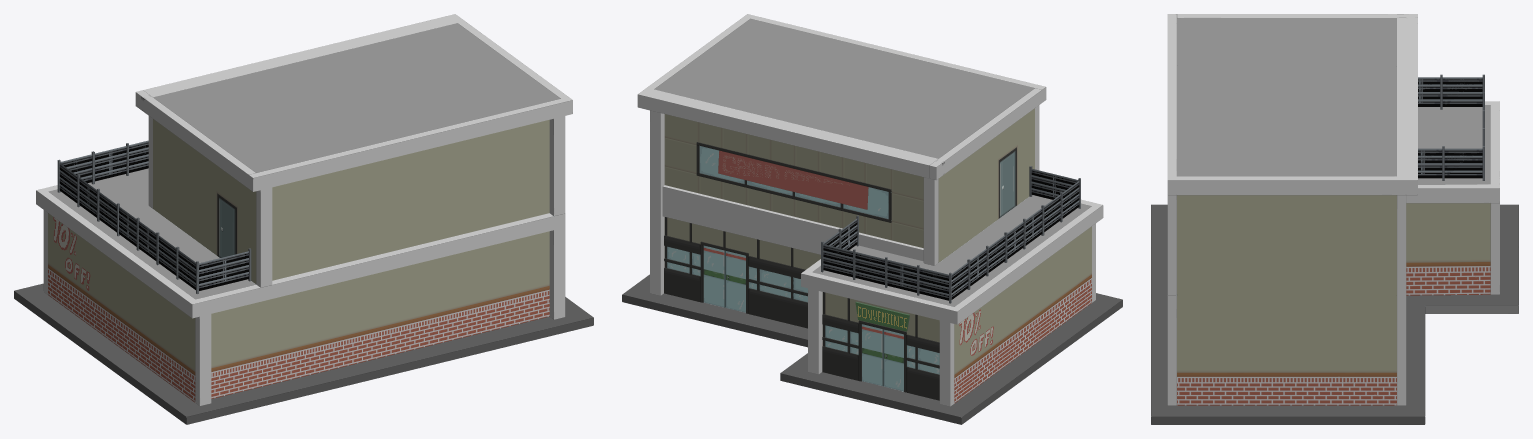
The model's file is ConvenienceStore.fbx.
3 views of the same model, side by side, from view 1: azimuth 30°, elevation 25°; view 2: azimuth 150°, elevation 25°; view 3: azimuth 270°, elevation 25° (orthographic). The views are drawn at different scales.
Visible parts, largest first — view 1: ConvenienceStore, FrameLarge, FrameSmall, Fence; view 2: ConvenienceStore, FrameLarge, FrontDetails, FrameSmall, Fence, OuterDetail, WindowBanner, FrontSign; view 3: ConvenienceStore, FrameLarge, FrameSmall, Fence.
Part boxes in pixels (<box>): ConvenienceStore: <box>14,23,593,424</box>; FrameLarge: <box>135,14,572,287</box>; FrameSmall: <box>36,185,565,405</box>; Fence: <box>57,140,251,293</box>; ConvenienceStore: <box>622,19,1122,424</box>; FrameLarge: <box>637,14,1046,295</box>; FrontDetails: <box>664,142,939,400</box>; FrameSmall: <box>801,199,1103,406</box>; Fence: <box>821,166,1080,303</box>; OuterDetail: <box>662,185,923,261</box>; WindowBanner: <box>718,150,868,209</box>; FrontSign: <box>855,301,909,331</box>; ConvenienceStore: <box>1151,18,1518,424</box>; FrameLarge: <box>1167,14,1417,405</box>; FrameSmall: <box>1167,101,1499,405</box>; Fence: <box>1418,74,1484,180</box>.
Size of the model in its own units: 1338 by 700 by 981.
8 materials, 8 textured.
